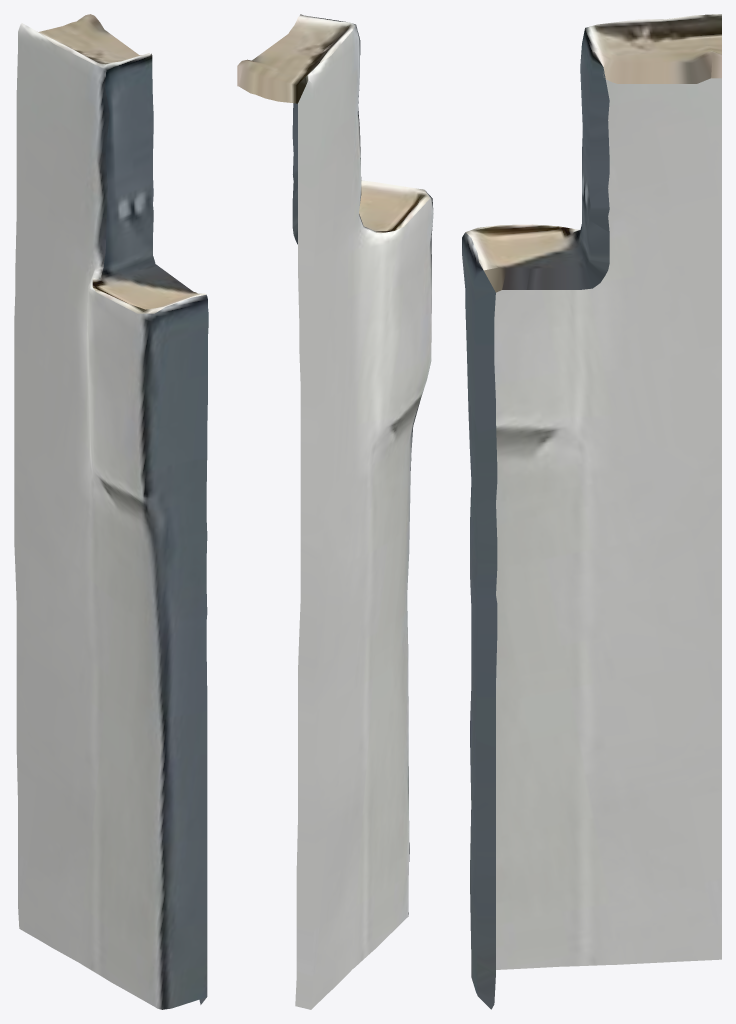
The model's file is z20-167753-405244-h1-yup-uvflip-v3-world.glb.
3 views of the same model, side by side, from view 1: azimuth 30°, elevation 25°; view 2: azimuth 150°, elevation 25°; view 3: azimuth 270°, elevation 25° (orthographic). The views are drawn at different scales.
Bounding box in the file's own units: 2.44 × 27.6 × 6.76.
1 material, 1 textured.
